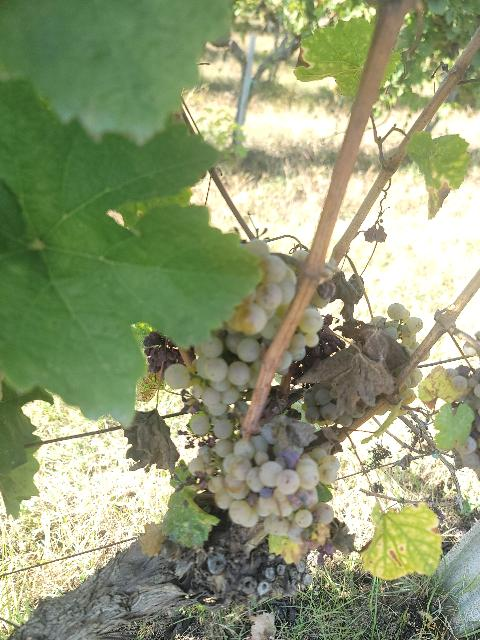grapes: (164, 240, 322, 455), (206, 421, 340, 549)
